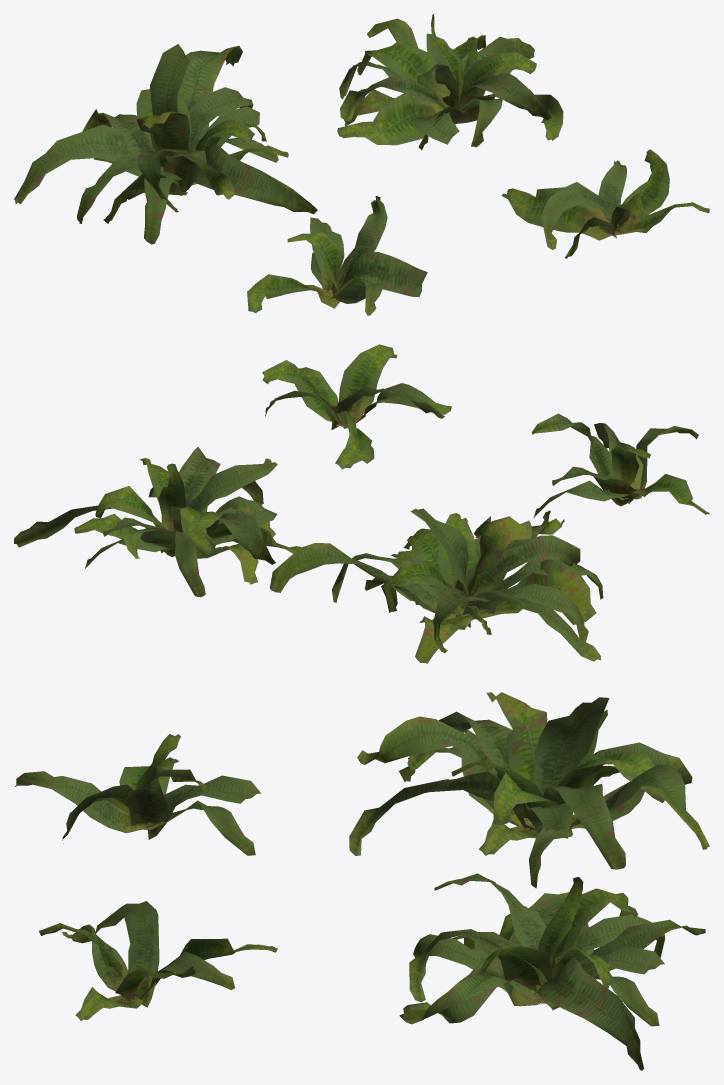
Rendered from fern_02.glb.
3 renders of one model, top to bottom at view 1: azimuth 30°, elevation 25°; view 2: azimuth 150°, elevation 25°; view 3: azimuth 270°, elevation 25°, orthographic. The views are drawn at different scales.
Visible parts, largest first — view 1: fern_02_b; view 2: fern_02_b; view 3: fern_02_b.
Boxes of the visible parts, x1,y1,x2,y2 form: fern_02_b: (14,14,709,315); fern_02_b: (14,344,709,663); fern_02_b: (15,692,709,1070).
Size of the model in its own units: 1.97 by 0.4277 by 1.72.
Materials: 1 (1 with a texture image).
